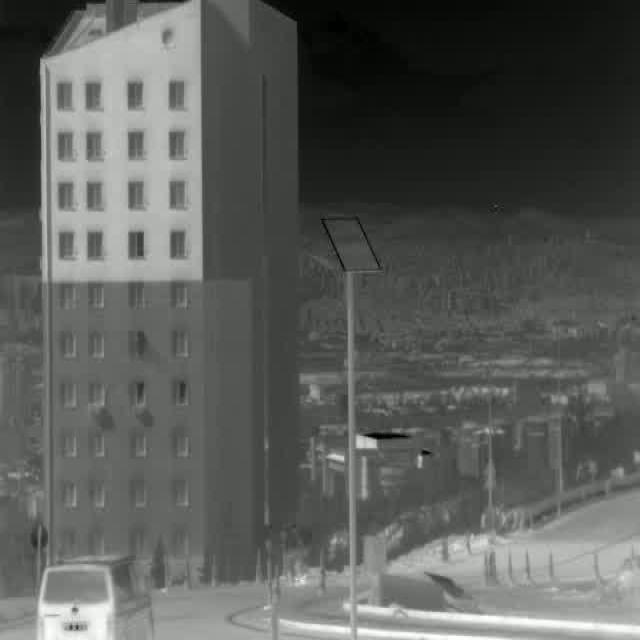Car: (34, 549, 157, 640)
Motorcycle: (281, 520, 316, 584)
